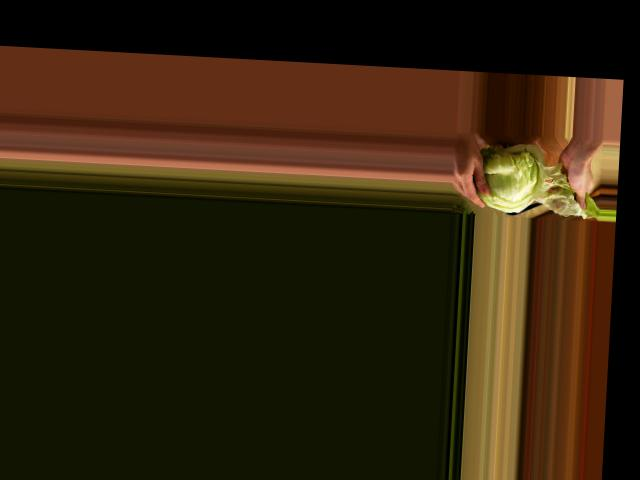lettuce: (471, 136, 561, 217)
